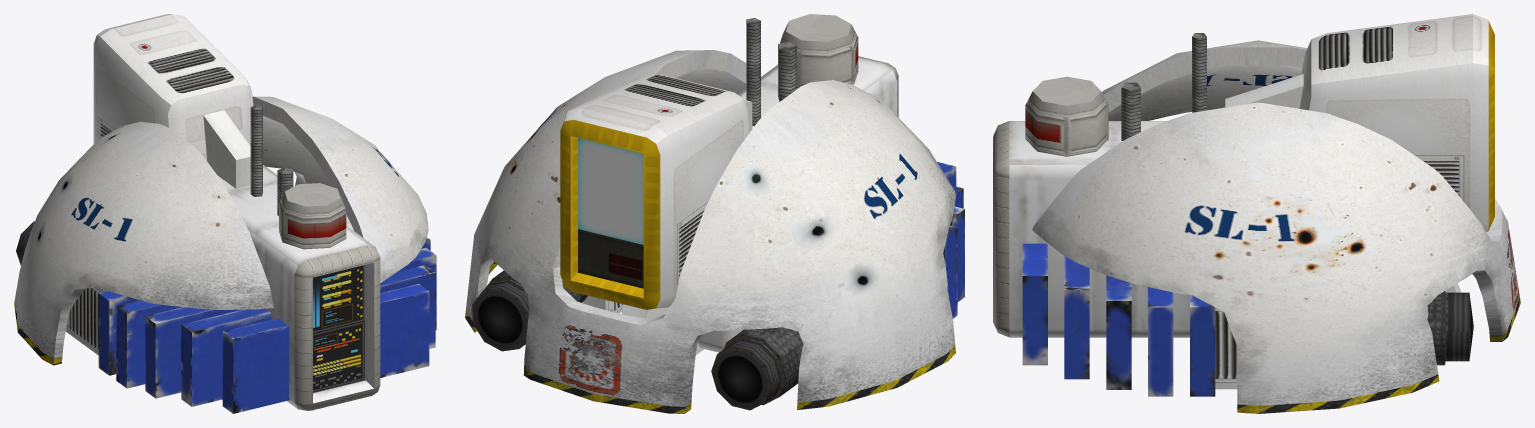
File: tripod_head.obj
3 views of the same model, side by side, from view 1: azimuth 30°, elevation 25°; view 2: azimuth 150°, elevation 25°; view 3: azimuth 270°, elevation 25° (orthographic). The views are drawn at different scales.
Visible parts, largest first — view 1: GeoSphere02, ChamferBox04, ChamferBox03, Box18, CtrlPanel, Box17, Box16, Cylinder15, Box15, Line01, Box14, Box19 (+2 smaller); view 2: GeoSphere02, ChamferBox04, LightSurface, Cylinder11, Cylinder15, Cylinder16, ChamferBox03, Cylinder13, Cylinder14, Box15, Box16, Line01; view 3: GeoSphere02, ChamferBox04, ChamferBox03, Cylinder15, Box18, Box17, Box16, Cylinder16, Box15, Box14, Line01, Box20 (+2 smaller).
Part boxes in pixels (x1,y1,x2,y2): GeoSphere02: [14, 96, 428, 365]; ChamferBox04: [93, 14, 253, 160]; ChamferBox03: [218, 164, 380, 410]; Box18: [222, 283, 429, 413]; CtrlPanel: [313, 264, 365, 393]; Box17: [181, 265, 435, 406]; Box16: [145, 248, 436, 398]; Cylinder15: [279, 183, 346, 249]; Box15: [116, 237, 430, 388]; Line01: [203, 110, 250, 188]; Box14: [98, 291, 139, 375]; Box19: [66, 287, 107, 355]; GeoSphere02: [465, 50, 956, 413]; ChamferBox04: [560, 74, 749, 310]; LightSurface: [578, 138, 643, 244]; Cylinder11: [711, 327, 803, 410]; Cylinder15: [780, 14, 858, 88]; Cylinder16: [472, 270, 587, 351]; ChamferBox03: [698, 56, 898, 352]; Cylinder13: [746, 18, 760, 126]; Cylinder14: [778, 42, 796, 101]; Box15: [943, 225, 957, 318]; Box16: [950, 206, 964, 301]; Line01: [621, 100, 752, 354]; GeoSphere02: [1032, 40, 1520, 413]; ChamferBox04: [1299, 14, 1494, 232]; ChamferBox03: [993, 121, 1189, 337]; Cylinder15: [1025, 76, 1108, 156]; Box18: [1022, 243, 1047, 365]; Box17: [1064, 256, 1089, 379]; Box16: [1106, 275, 1131, 389]; Cylinder16: [1427, 291, 1473, 365]; Box15: [1148, 287, 1173, 396]; Box14: [1190, 295, 1215, 396]; Line01: [1225, 74, 1461, 292]; Box20: [1215, 307, 1237, 389].
Bounding box in the file's own units: 112 × 67.94 × 113.
9 materials, 9 textured.
